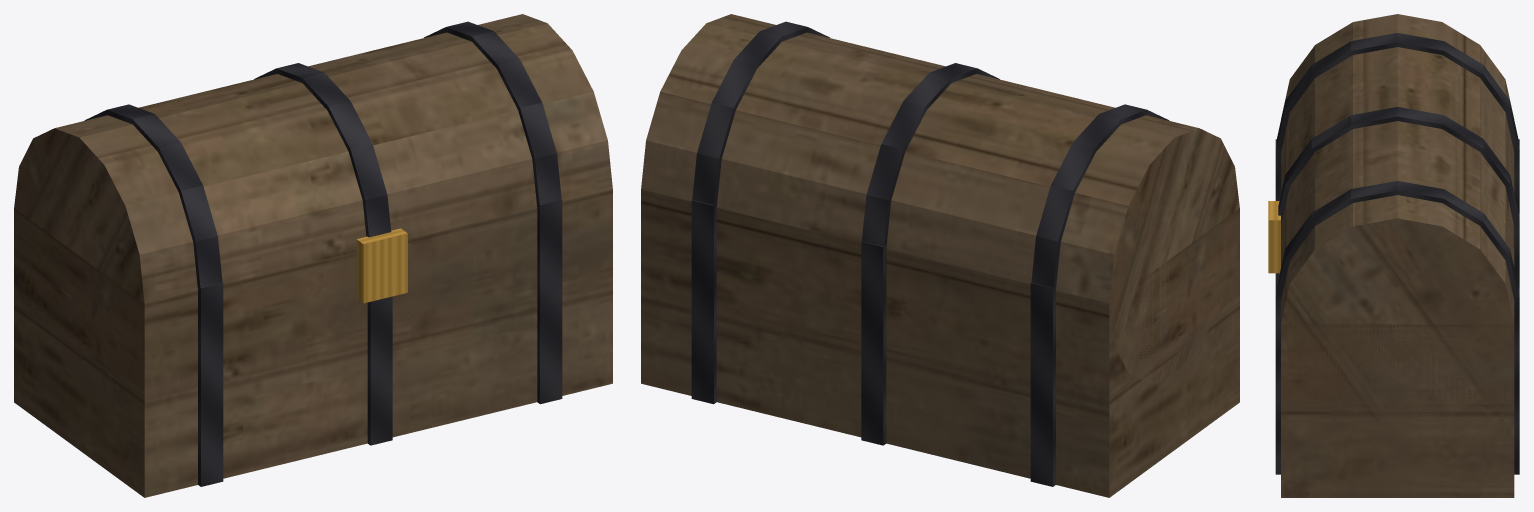
Rendered from baul_roble.glb.
The picture shows the model from 3 angles, left to right: view 1: azimuth 30°, elevation 25°; view 2: azimuth 150°, elevation 25°; view 3: azimuth 270°, elevation 25°; orthographic projection. The views are drawn at different scales.
Visible parts, largest first — view 1: baul_roble; view 2: baul_roble; view 3: baul_roble.
Part boxes in pixels (bbox=[...]): baul_roble: bbox=[14, 14, 612, 497]; baul_roble: bbox=[641, 14, 1239, 497]; baul_roble: bbox=[1268, 14, 1519, 497].
Bounding box in the file's own units: 1.16 × 0.752 × 0.6025.
Materials: 3 (3 with a texture image).
